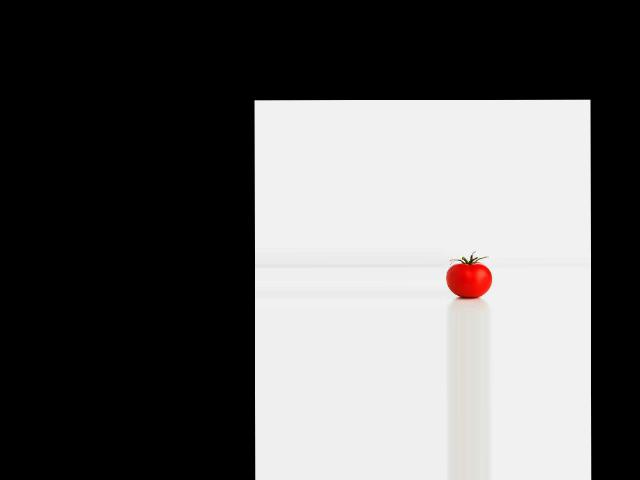tomato: (446, 263, 492, 297)
